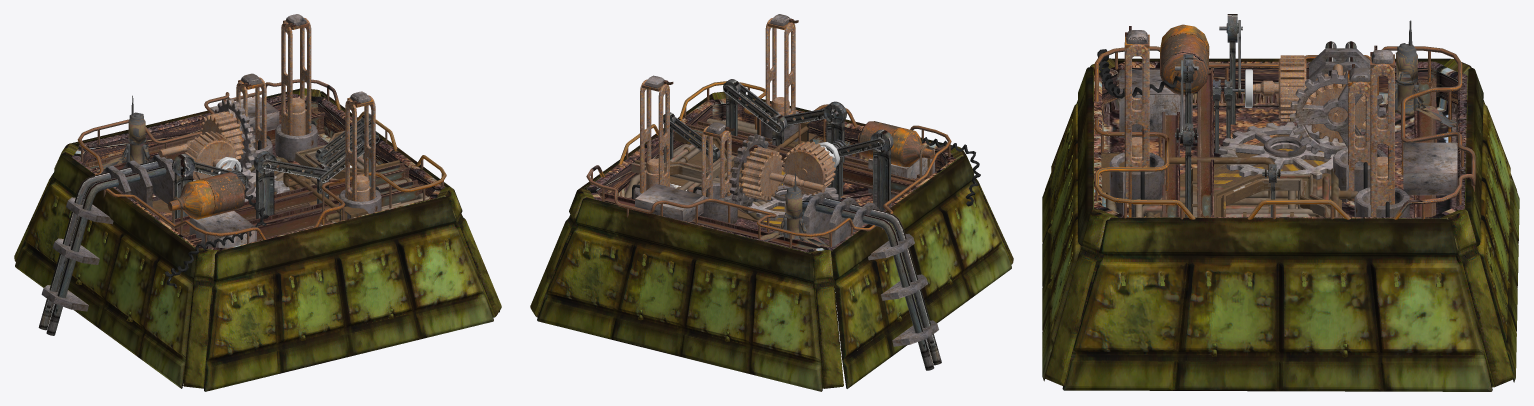
The picture shows the model from 3 angles, left to right: view 1: azimuth 30°, elevation 25°; view 2: azimuth 150°, elevation 25°; view 3: azimuth 270°, elevation 25°; orthographic projection. The views are drawn at different scales.
Parts seen in each view (by area): view 1: Plane_16, Plane_8, Boole, Extrude_2, Sweep_9, Sweep, Plane_6, drum_remesh, Cube_10, Cube_2_2, SM_obj_PipeWall, Plane_14 (+13 smaller); view 2: Plane_4, Boole, Plane_8, Extrude_2, Sweep_9, Plane, Sweep, SM_obj_PipeWall, drum_remesh, Cube_2_2, Plane_10, Cube_1 (+12 smaller); view 3: Plane_12, Boole, Extrude_2, Plane_4, Plane_16, SM_obj_PipeWall, Sweep, Plane_10, Plane_14, drum_remesh, Cube_2_2, Sweep_5 (+9 smaller).
Part boxes in pixels (x1,y1,x2,y2): Plane_16: (204,196,493,391); Plane_8: (15,153,196,388); Boole: (158,14,411,248); Extrude_2: (72,93,444,250); Sweep_9: (38,158,173,335); Sweep: (77,79,446,240); Plane_6: (183,248,218,388); drum_remesh: (167,172,245,219); Cube_10: (184,180,423,245); Cube_2_2: (163,163,409,236); SM_obj_PipeWall: (152,146,430,222); Plane_14: (437,187,501,317); Plane_4: (537,198,822,391); Boole: (635,14,935,222); Plane_8: (831,156,1011,388); Extrude_2: (586,97,956,252); Sweep_9: (802,195,941,370); Plane: (809,250,843,388); Sweep: (586,81,951,237); SM_obj_PipeWall: (624,116,836,302); drum_remesh: (857,121,934,167); Cube_2_2: (679,123,922,196); Plane_10: (530,188,594,317); Cube_1: (600,192,828,249); Plane_12: (1062,217,1492,391); Boole: (1119,14,1457,217); Extrude_2: (1094,61,1467,218); Plane_4: (1464,68,1519,382); Plane_16: (1042,67,1093,381); SM_obj_PipeWall: (1101,124,1357,217); Sweep: (1094,46,1475,219); Plane_10: (1440,209,1513,387); Plane_14: (1044,209,1117,386); drum_remesh: (1160,24,1209,94); Cube_2_2: (1197,67,1213,217); Sweep_5: (1214,174,1337,217).
Size of the model in its own units: 625 by 407 by 571.
